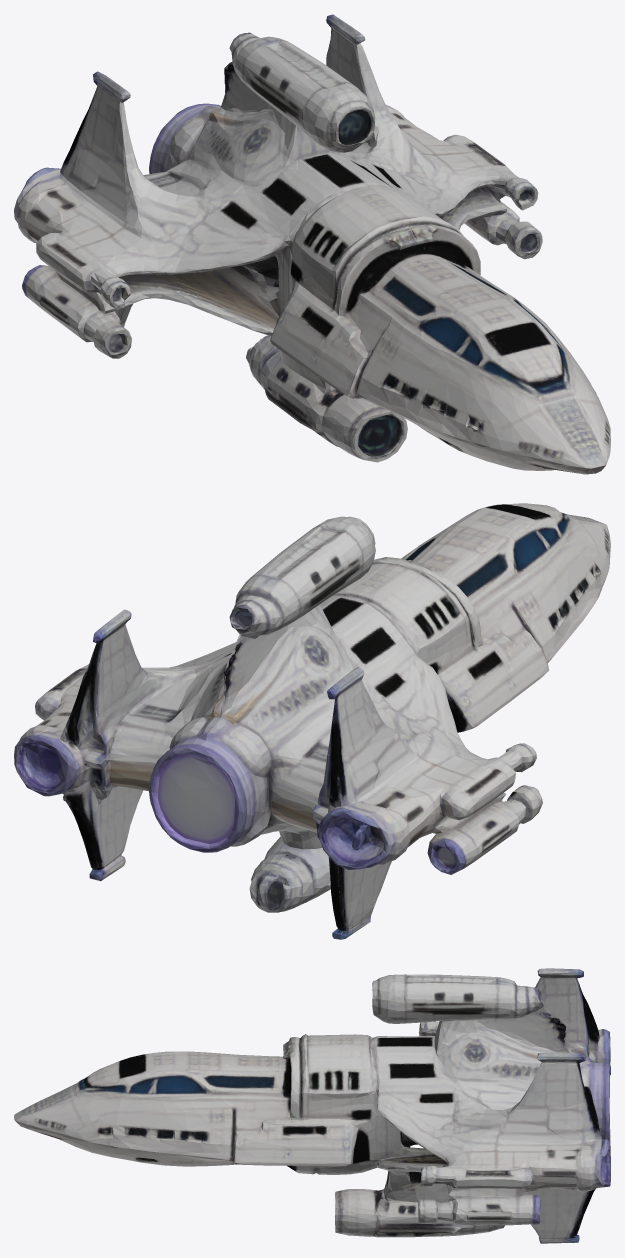
Rendered from Victorious Frigate.glb.
3 views of the same model, one above another, from view 1: azimuth 30°, elevation 25°; view 2: azimuth 150°, elevation 25°; view 3: azimuth 270°, elevation 25° (orthographic). The views are drawn at different scales.
Parts seen in each view (by area): view 1: world; view 2: world; view 3: world.
Part boxes in pixels (box(x1,y1,x2,y2)): world: box(14, 14, 610, 474); world: box(14, 503, 610, 939); world: box(14, 968, 610, 1243).
Bounding box in the file's own units: 0.6354 × 0.4733 × 1.
1 material, 1 textured.
